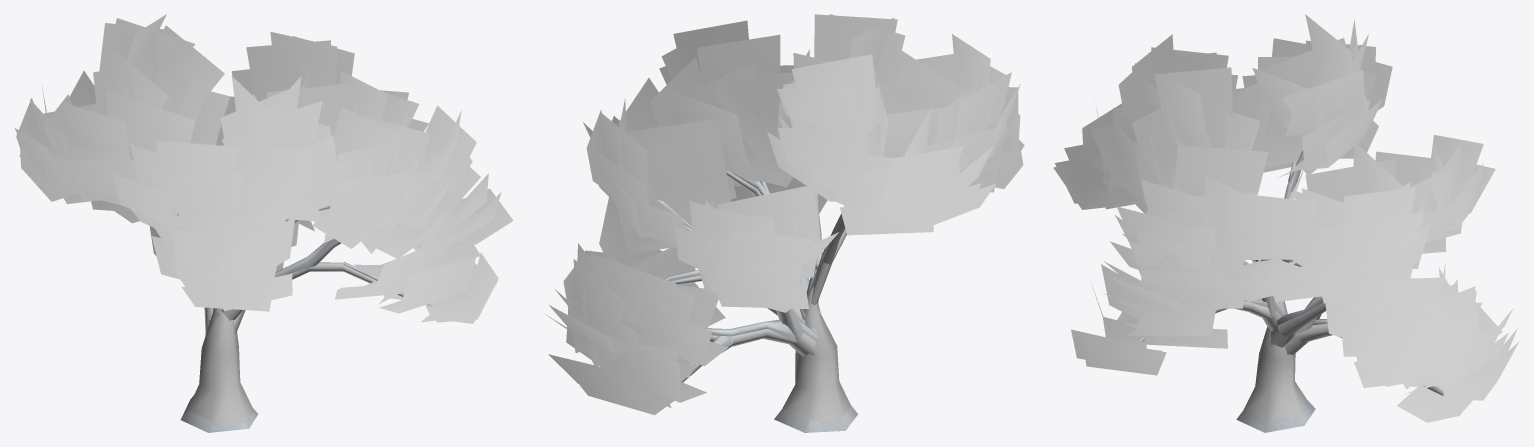
The model's file is Tree_Medium_6_Snow.fbx.
3 views of the same model, side by side, from view 1: azimuth 30°, elevation 25°; view 2: azimuth 150°, elevation 25°; view 3: azimuth 270°, elevation 25° (orthographic). The views are drawn at different scales.
Visible parts, largest first — view 1: Tree_Medium_6_Snow_LOD0; view 2: Tree_Medium_6_Snow_LOD0; view 3: Tree_Medium_6_Snow_LOD0.
Boxes of the visible parts, bbox=[...] form: Tree_Medium_6_Snow_LOD0: bbox=[14, 14, 513, 432]; Tree_Medium_6_Snow_LOD0: bbox=[545, 14, 1024, 432]; Tree_Medium_6_Snow_LOD0: bbox=[1053, 14, 1518, 432].
Size of what is drawn, in the model's own units: 1877 by 1675 by 1906.
